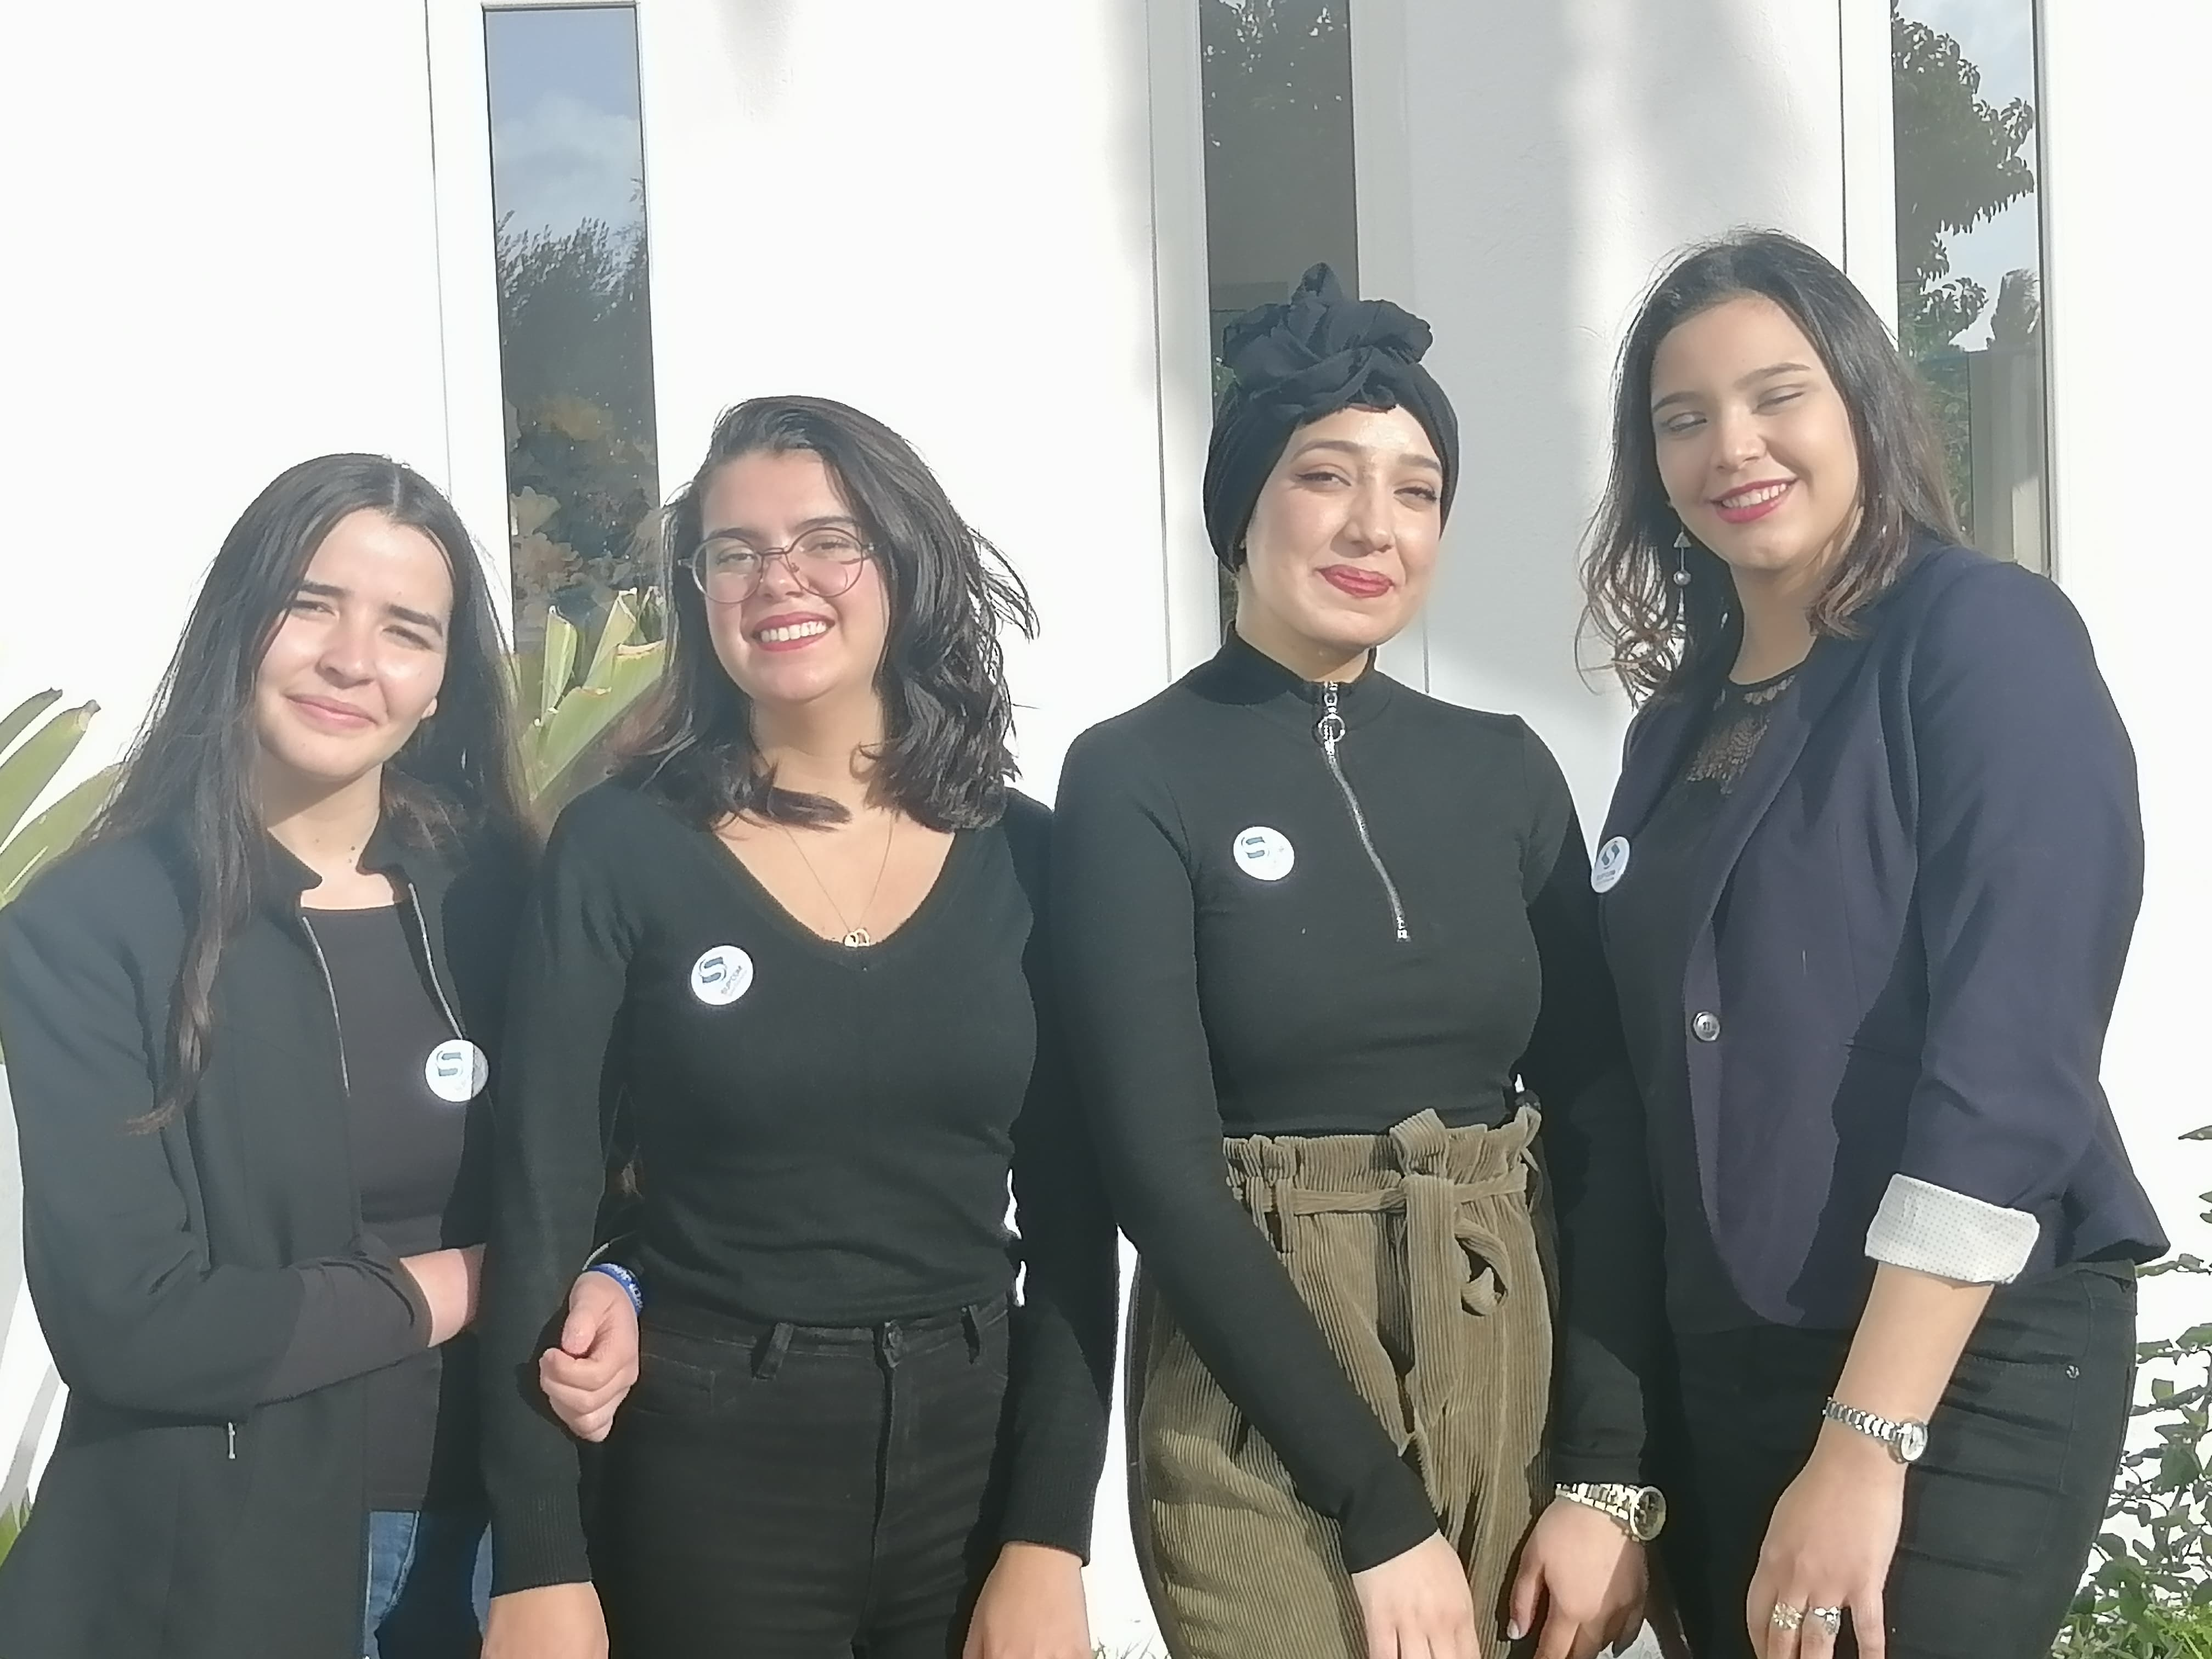without_mask: (235, 575, 453, 780), (1647, 357, 1848, 566), (1272, 426, 1448, 645), (696, 509, 890, 702)
